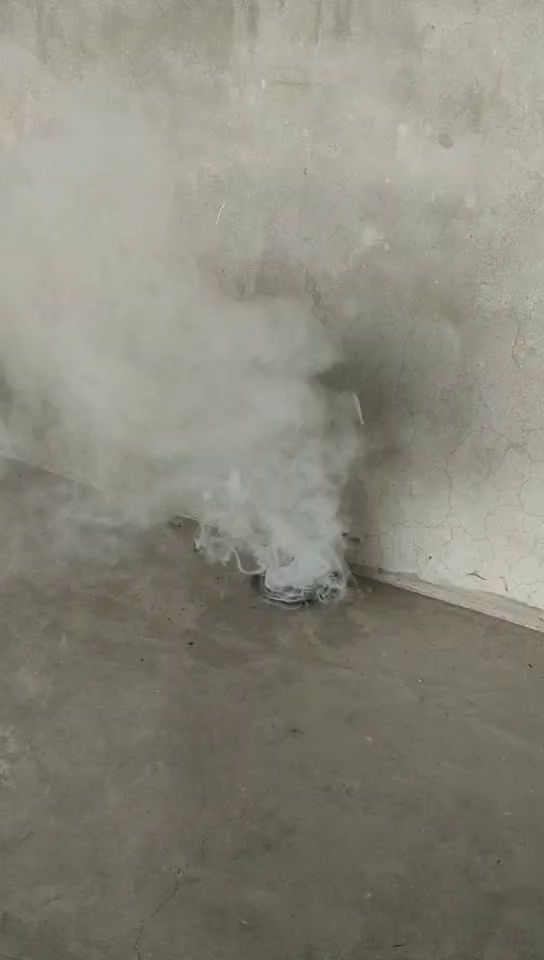smoke: (65, 235, 363, 590)
